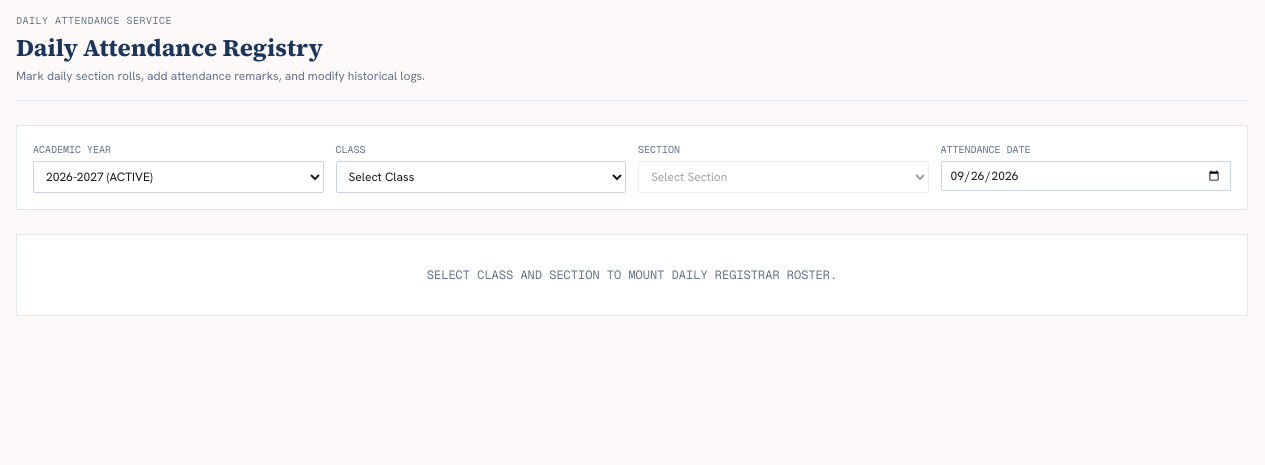
Test: AttendancePage Component › 4. displays student registry table when valid context is selected
Select "Nursery" in the dropdown labelled "Class" at (481, 177), box [336,161,626,193]
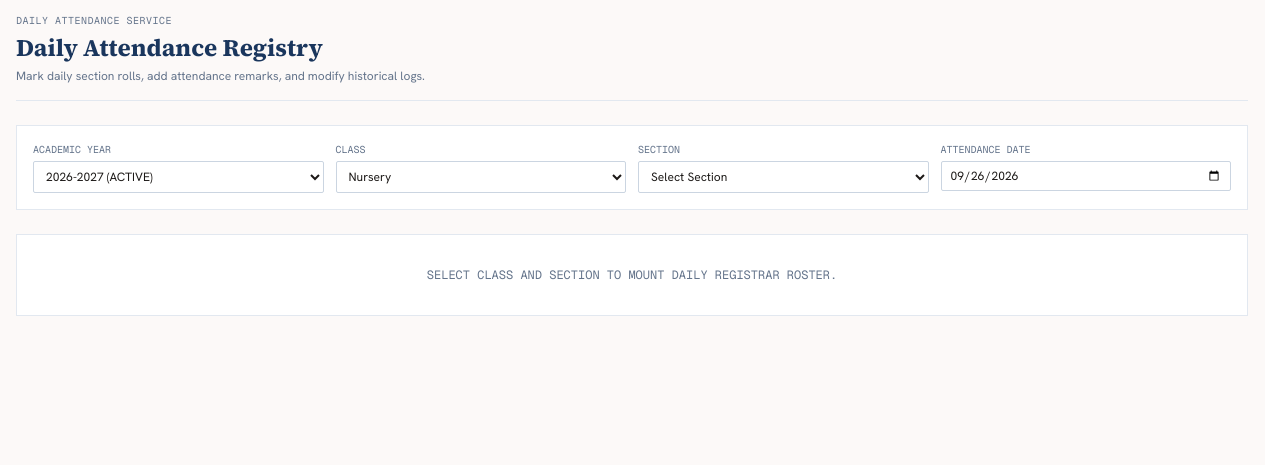
Select "A" in the dropdown labelled "Section" at (783, 177), box [638,161,928,193]
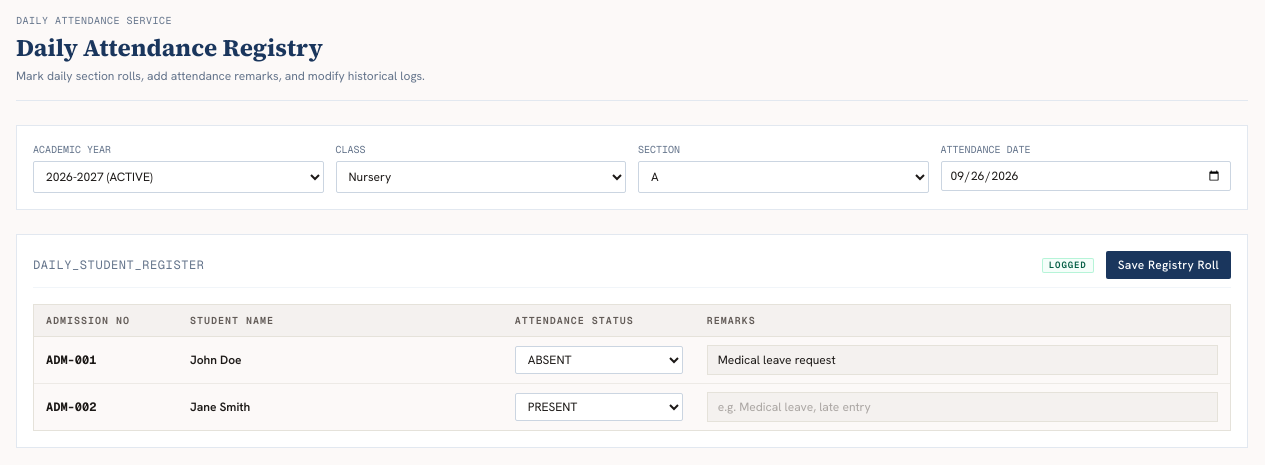
Expected: the text "John Doe" is shown, [178,336,503,384]
Expected: the text "Jane Smith" is shown, [178,384,503,430]
